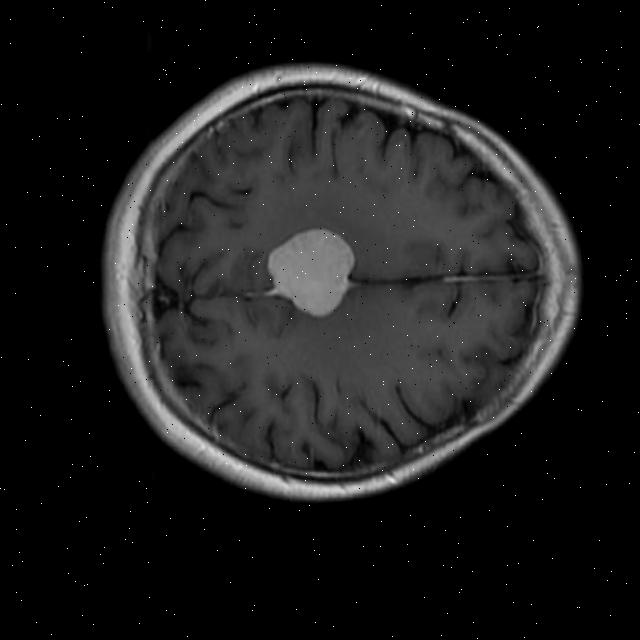Meningioma: (259, 224, 361, 323)
